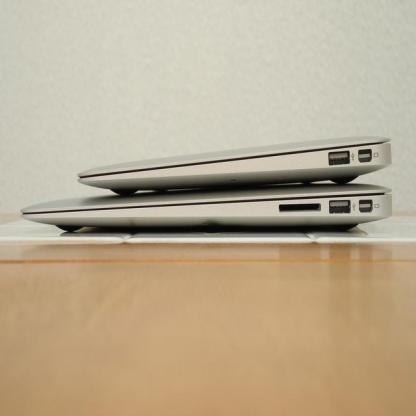board: (75, 136, 392, 198), (20, 184, 391, 233)
